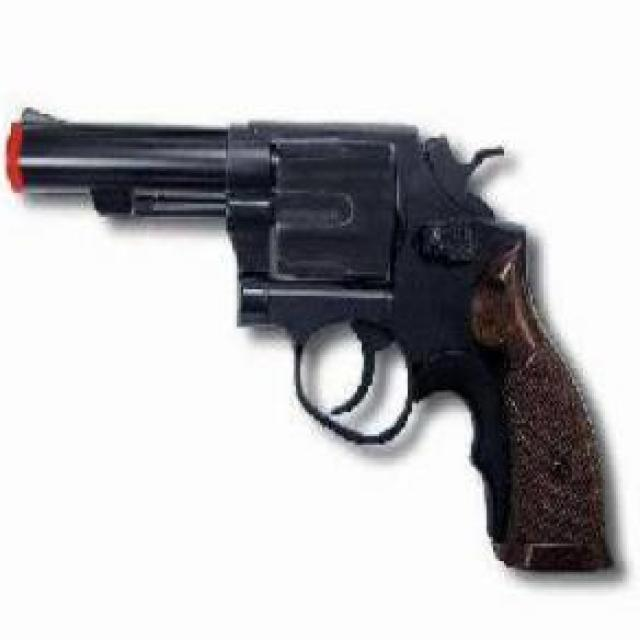pistol: (9, 103, 616, 579)
